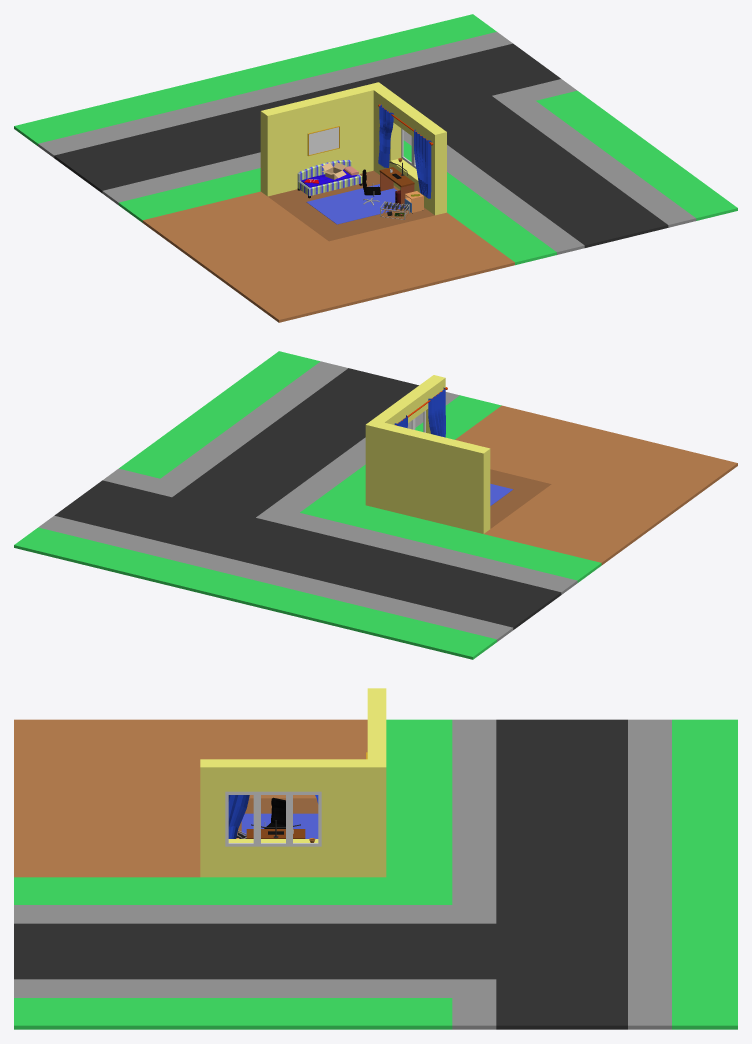
Rendered from apartament room scene.fbx.
3 renders of one model, top to bottom at view 1: azimuth 30°, elevation 25°; view 2: azimuth 150°, elevation 25°; view 3: azimuth 270°, elevation 25°, orthographic. The views are drawn at different scales.
Parts seen in each view (by area): view 1: Street, Floor extension, Bed wall, Window wall, Floor, Rug, Bed, CurtainR, Mirror frame, CurtainL, Table; view 2: Street, Floor extension, Bed wall, Window wall, Floor, CurtainR; view 3: Street, Floor extension, Window wall, Window frame, Bed wall, Rug, Floor, CurtainR.
Boxes of the visible parts, left/top/right/bottom form: Street: left=14, top=14, right=737, bottom=265; Floor extension: left=142, top=191, right=514, bottom=322; Bed wall: left=260, top=85, right=373, bottom=196; Window wall: left=367, top=82, right=446, bottom=215; Floor: left=268, top=170, right=434, bottom=241; Rug: left=306, top=184, right=404, bottom=224; Bed: left=297, top=160, right=362, bottom=198; CurtainR: left=414, top=129, right=431, bottom=198; Mirror frame: left=307, top=126, right=339, bottom=155; CurtainL: left=378, top=104, right=393, bottom=167; Table: left=379, top=167, right=414, bottom=205; Street: left=14, top=351, right=601, bottom=659; Floor extension: left=455, top=405, right=737, bottom=565; Bed wall: left=377, top=422, right=490, bottom=533; Window wall: left=365, top=375, right=445, bottom=507; Floor: left=490, top=469, right=551, bottom=528; CurtainR: left=428, top=387, right=445, bottom=437; Street: left=14, top=719, right=737, bottom=1029; Floor extension: left=14, top=719, right=367, bottom=877; Window wall: left=200, top=759, right=386, bottom=877; Window frame: left=225, top=791, right=321, bottom=846; Bed wall: left=367, top=688, right=386, bottom=759; Rug: left=241, top=813, right=318, bottom=838; Floor: left=237, top=798, right=318, bottom=834; CurtainR: left=228, top=795, right=249, bottom=838.
Bounding box in the file's own units: 1730 × 300 × 1730.
